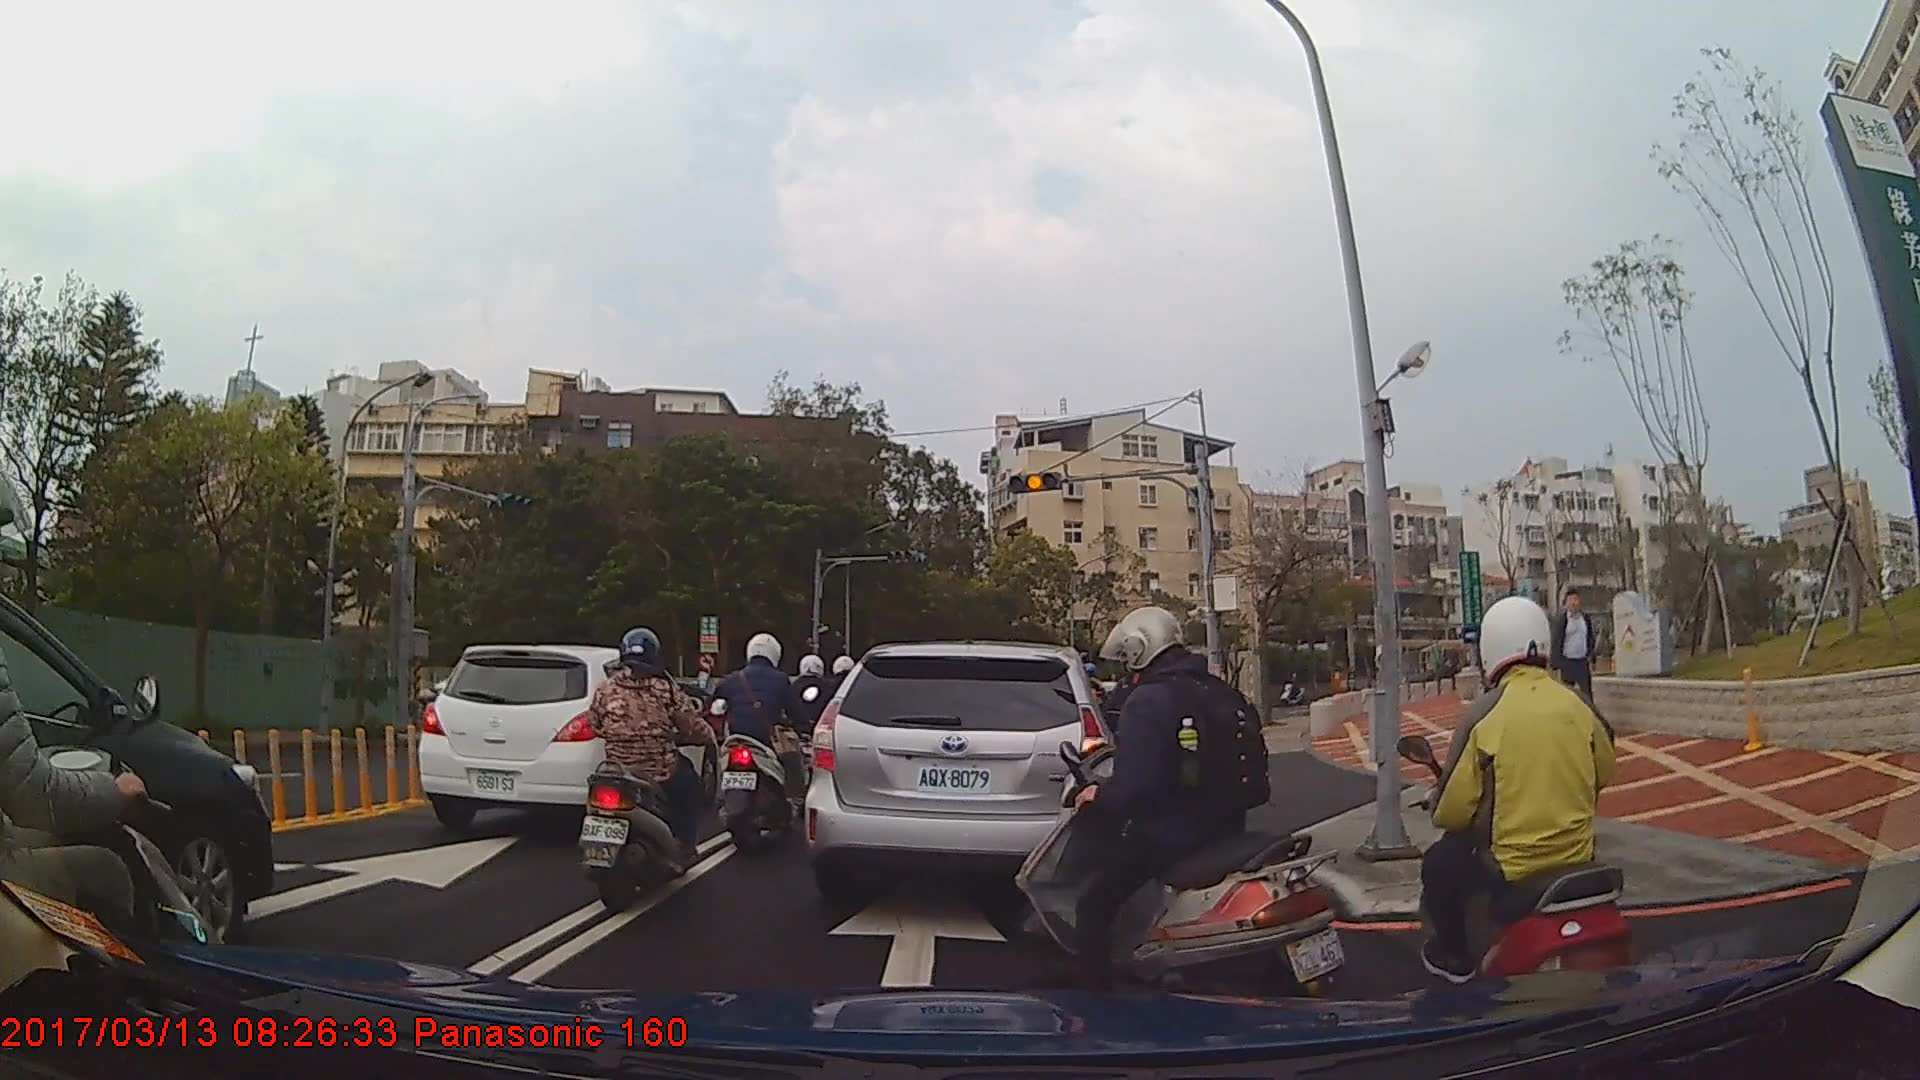pedestrian: (1557, 587, 1614, 744)
rider: (1011, 606, 1349, 1008), (1400, 589, 1639, 1043), (577, 624, 713, 915), (715, 629, 820, 852), (787, 655, 843, 804)
vehicle: (0, 595, 271, 957), (802, 637, 1118, 922), (415, 643, 719, 833)
